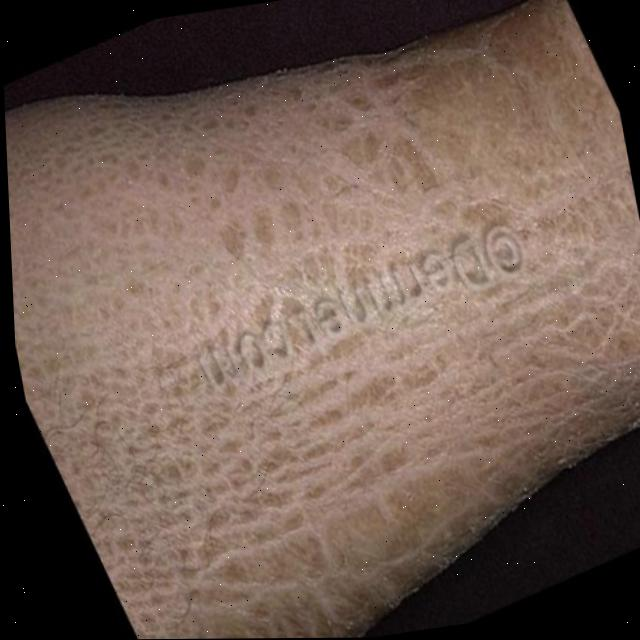Eczema: (3, 57, 640, 571)
